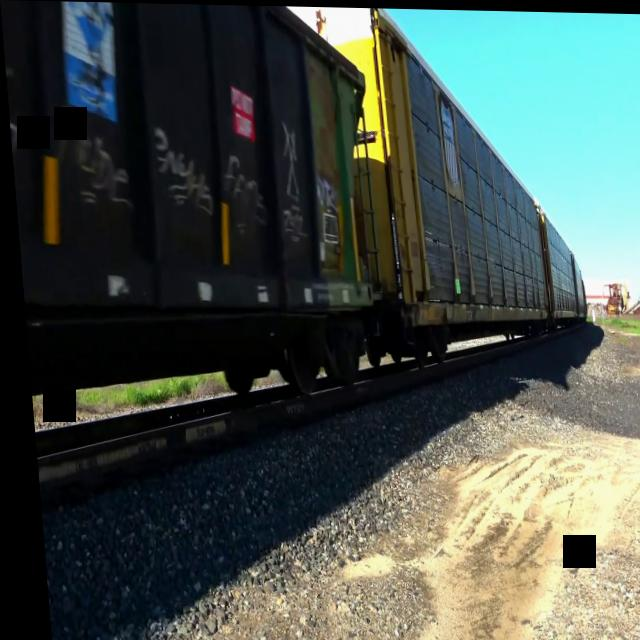autorack: (279, 5, 550, 371), (537, 200, 574, 329)
hopper: (0, 0, 392, 452)
